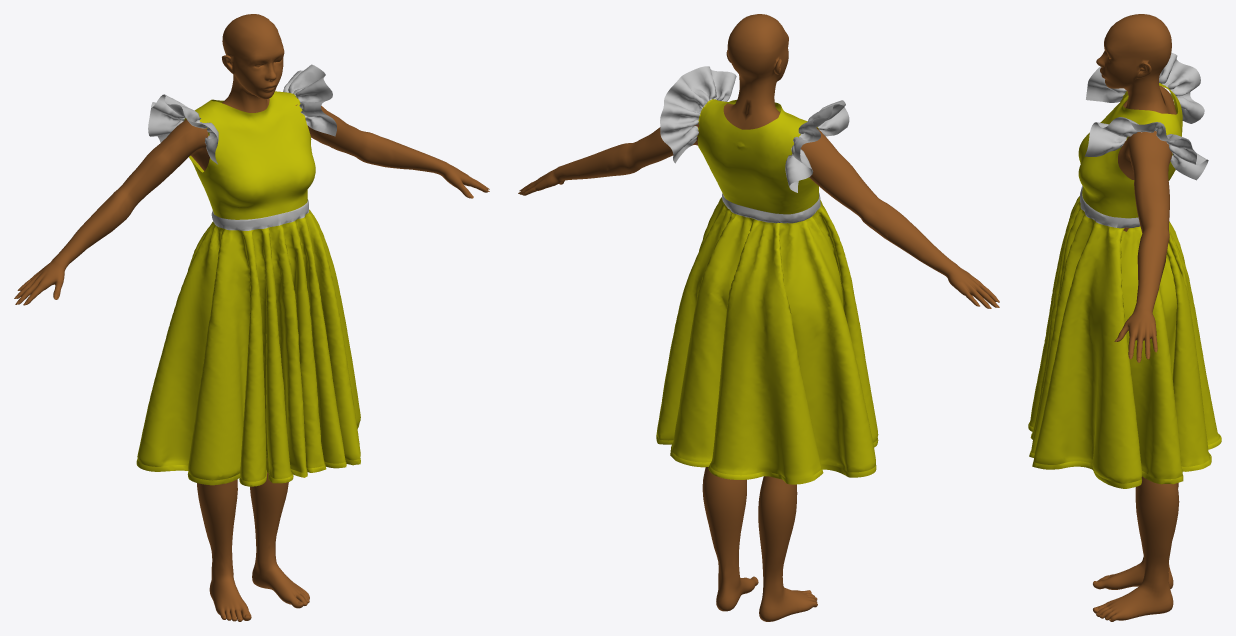
The model's file is dress10.glb.
The picture shows the model from 3 angles, left to right: view 1: azimuth 30°, elevation 25°; view 2: azimuth 150°, elevation 25°; view 3: azimuth 270°, elevation 25°; orthographic projection.
Visible parts, largest first — view 1: PinkDrees#14 (OBJ), Body; view 2: PinkDrees#14 (OBJ), Body; view 3: PinkDrees#14 (OBJ), Body.
Part boxes in pixels (x1,y1,x2,y2): PinkDrees#14 (OBJ): [136, 64, 360, 486]; Body: [16, 14, 489, 621]; PinkDrees#14 (OBJ): [656, 66, 878, 484]; Body: [519, 14, 996, 621]; PinkDrees#14 (OBJ): [1028, 52, 1221, 488]; Body: [1093, 14, 1179, 621].
Size of the model in its own units: 1.58 by 1.85 by 0.5546.
